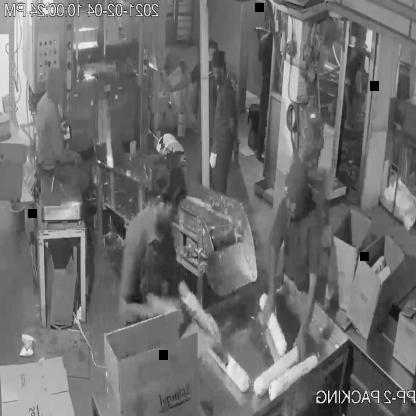glove: (116, 282, 193, 335), (178, 286, 226, 348)
no_glove: (290, 246, 323, 365), (256, 229, 289, 333), (164, 68, 194, 96)
